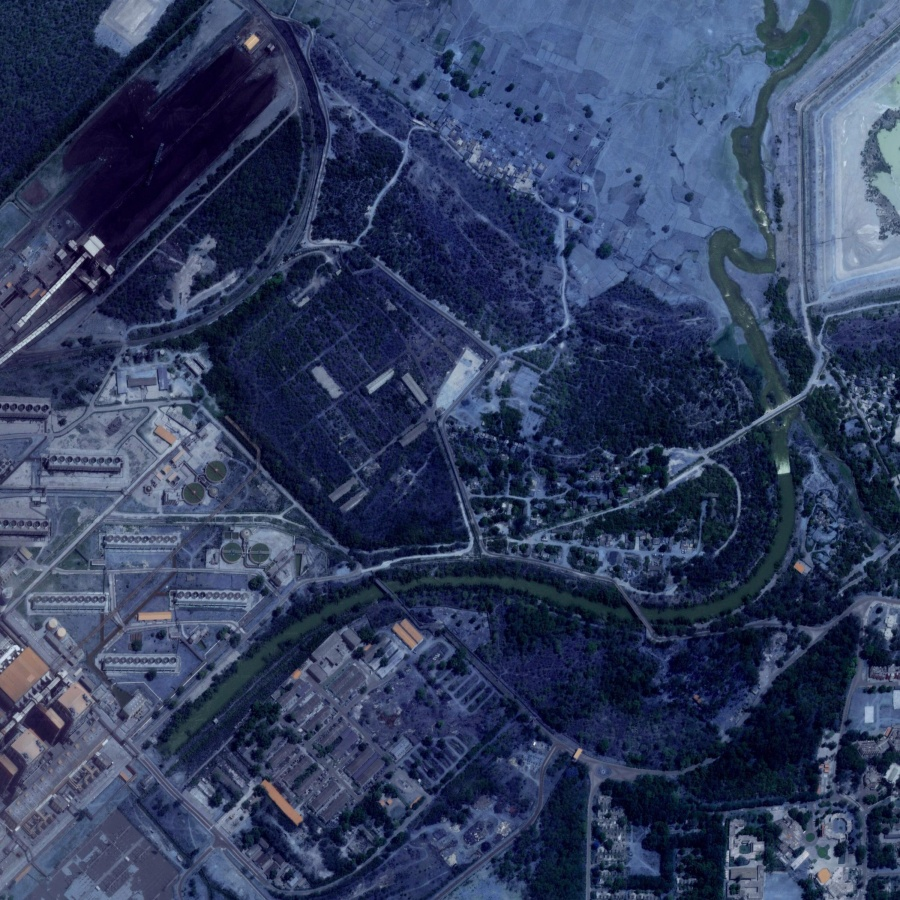PowerPlant: (16, 14, 295, 296)
